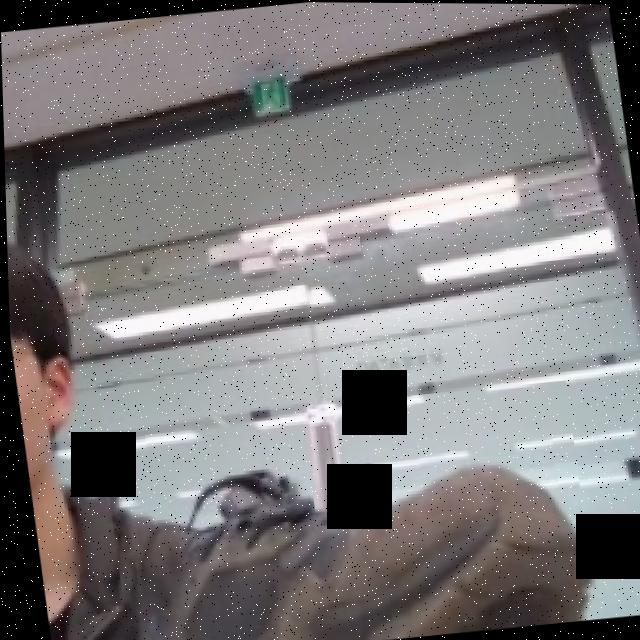shoe: (72, 376, 594, 640)
